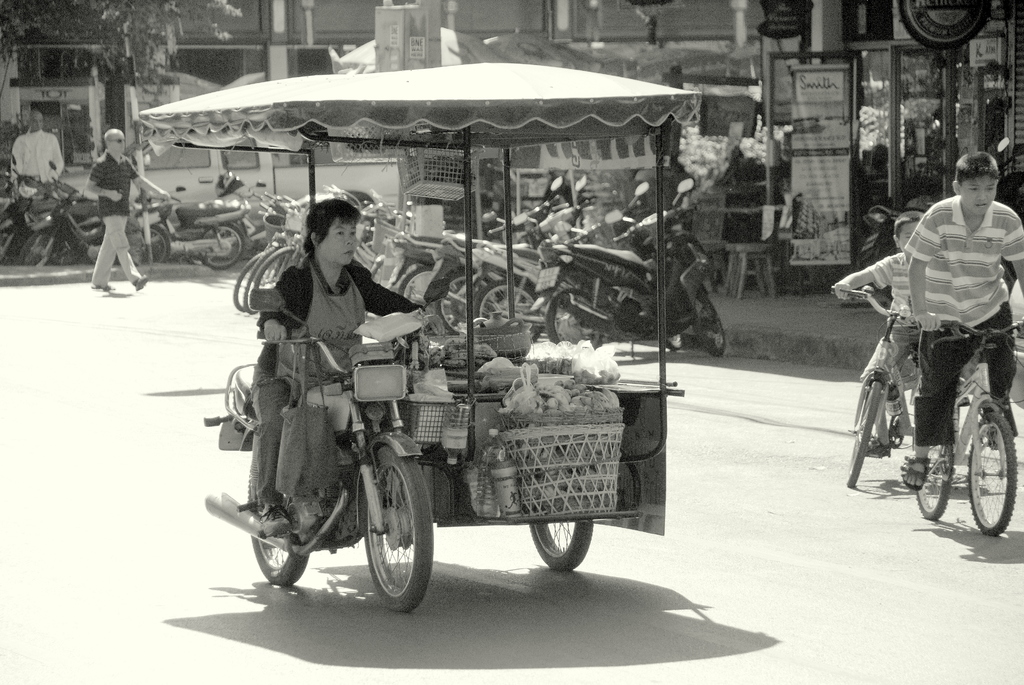bicycle: (901, 315, 1018, 548), (231, 180, 411, 320)
